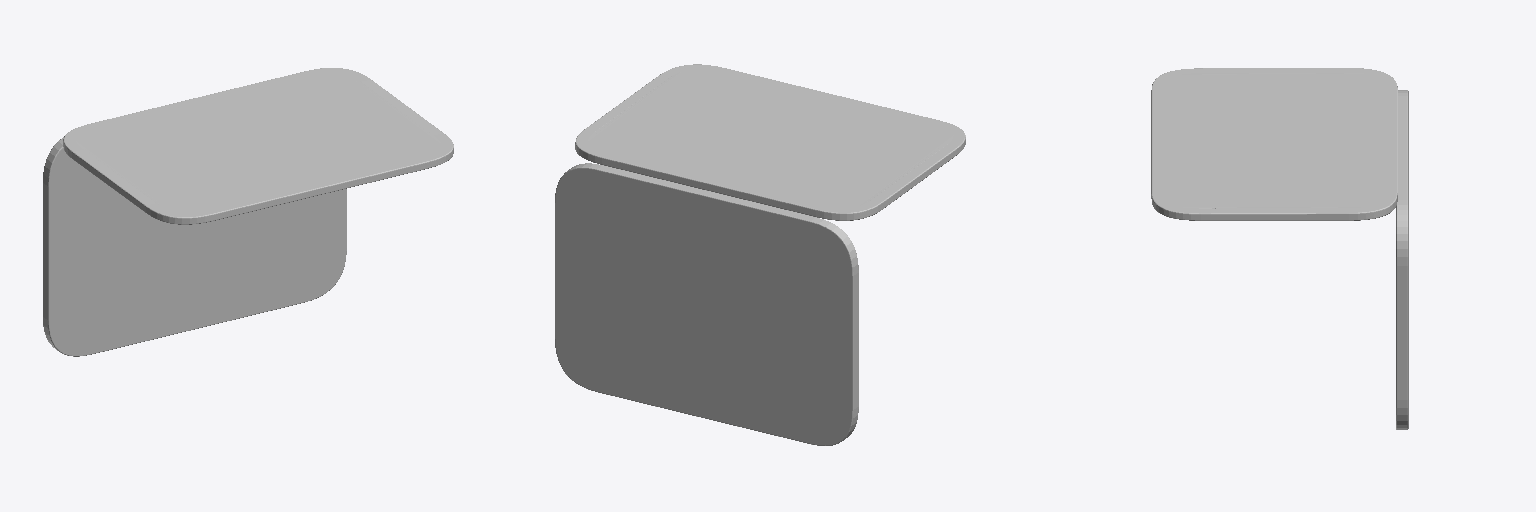
Rendered from macbook.obj.
3 views of the same model, side by side, from view 1: azimuth 30°, elevation 25°; view 2: azimuth 150°, elevation 25°; view 3: azimuth 270°, elevation 25° (orthographic).
Parts seen in each view (by area): view 1: macbook_keyboard, macbook_cover; view 2: macbook_keyboard, macbook_cover; view 3: macbook_cover, macbook_keyboard.
Part boxes in pixels (bbox=[...]): macbook_keyboard: bbox=[43, 137, 346, 356]; macbook_cover: bbox=[63, 68, 453, 224]; macbook_keyboard: bbox=[555, 163, 858, 445]; macbook_cover: bbox=[575, 64, 965, 220]; macbook_cover: bbox=[1151, 68, 1397, 220]; macbook_keyboard: bbox=[1396, 90, 1408, 429].
Size of the model in its own units: 123 by 91.23 by 91.88.